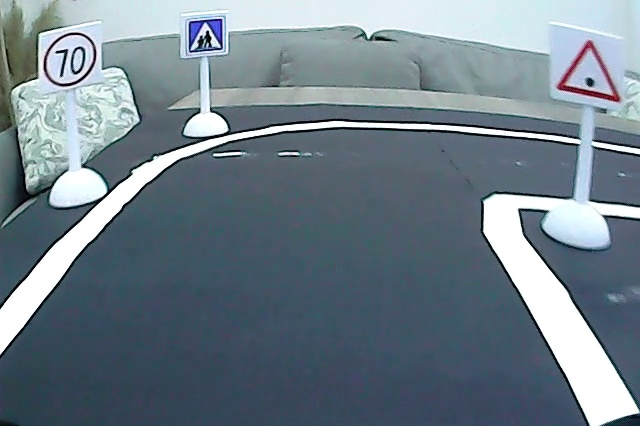green light: (554, 35, 623, 108)
school crossing: (187, 16, 225, 56)
speed limit 70: (41, 29, 100, 91)
